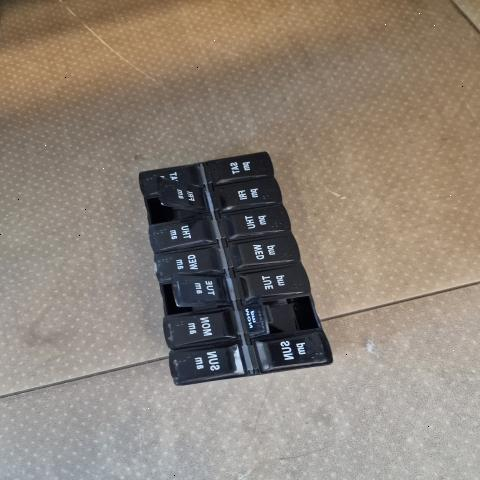Open: (253, 296, 323, 339), (160, 281, 223, 316), (144, 195, 208, 224)
